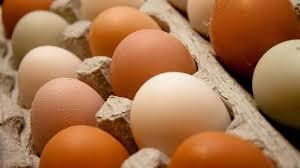egg: (130, 70, 232, 145), (209, 0, 300, 84), (109, 28, 197, 96), (30, 77, 106, 142), (249, 38, 300, 126), (39, 124, 130, 168), (17, 44, 82, 100), (173, 133, 272, 168), (90, 5, 160, 54), (11, 10, 68, 58)
